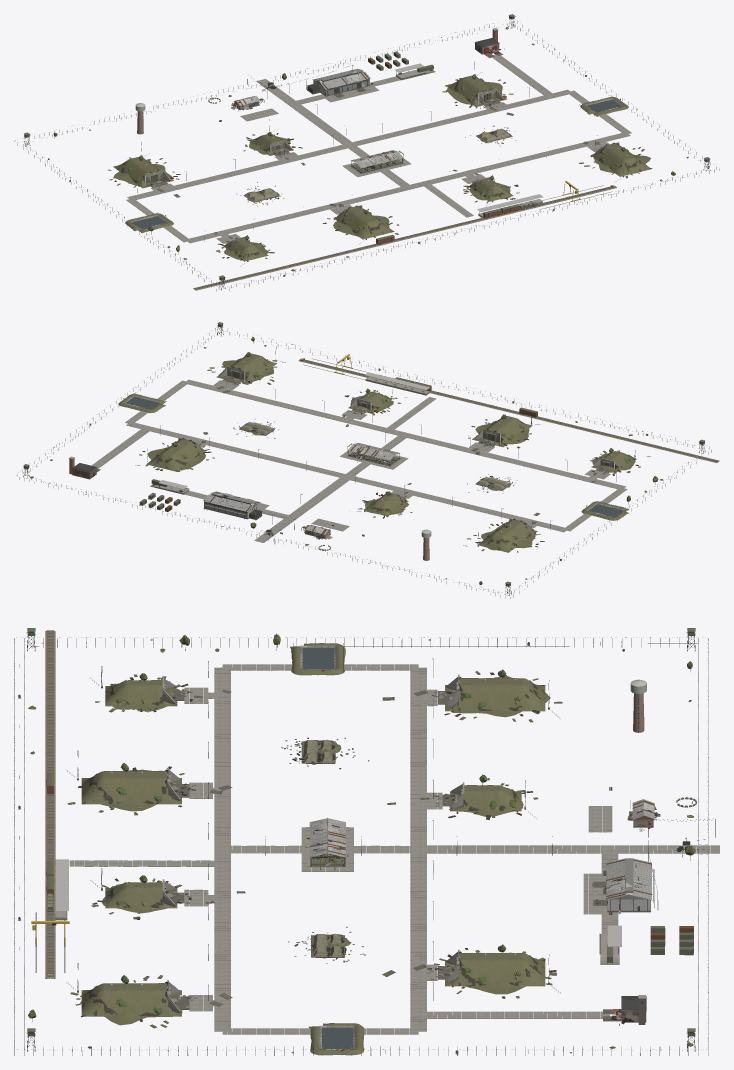
Rendered from site_ammo_city.glb.
3 views of the same model, one above another, from view 1: azimuth 30°, elevation 25°; view 2: azimuth 150°, elevation 25°; view 3: azimuth 270°, elevation 25° (orthographic). The views are drawn at different scales.
Parts seen in each view (by area): view 1: deco_roads|tile_conc, deco_rail|A_A, deco_fence|A_A, b_shop|A_A, b_mag1|A_A, b_mag3|A_A, b_mag5|A_A, deco_roads2|tile_conc, b_mag7|A_A, deco_misc|A_A, b_mag5_ruin|A_B, b_mag7_ruin|A_B (+6 smaller); view 2: deco_roads|tile_conc, deco_rail|A_A, deco_fence|A_A, b_shop|A_A, b_mag5|A_A, b_mag7|A_A, b_mag1|A_A, b_mag3|A_A, deco_misc|A_A, deco_roads2|tile_conc, b_mag3_ruin|A_B, b_mag1_ruin|A_B (+7 smaller); view 3: deco_roads|tile_conc, deco_rail|A_A, deco_fence|A_A, b_mag7|A_A, b_mag5|A_A, b_mag1|A_A, b_mag3|A_A, deco_roads2|tile_conc, b_shop|A_A, b_mag3_ruin|A_B, deco_misc|A_A, b_mag2|A_A (+19 smaller).
Part boxes in pixels (x1,y1,x2,y2): deco_roads|tile_conc: (126,76,631,243); deco_rail|A_A: (193,181,616,290); deco_fence|A_A: (15,20,716,291); b_shop|A_A: (307,68,372,97); b_mag1|A_A: (114,142,173,187); b_mag3|A_A: (448,62,505,106); b_mag5|A_A: (333,205,392,239); deco_roads2|tile_conc: (424,54,554,217); b_mag7|A_A: (591,142,650,177); deco_misc|A_A: (137,51,622,248); b_mag5_ruin|A_B: (323,203,399,243); b_mag7_ruin|A_B: (579,141,652,181); deco_roads|tile_conc: (125,379,627,542); deco_rail|A_A: (298,354,719,462); deco_fence|A_A: (17,328,711,598); b_shop|A_A: (203,491,262,519); b_mag5|A_A: (473,412,532,447); b_mag7|A_A: (217,346,276,384); b_mag1|A_A: (477,518,536,552); b_mag3|A_A: (146,438,205,471); deco_misc|A_A: (139,372,621,550); deco_roads2|tile_conc: (91,397,436,468); b_mag3_ruin|A_B: (135,432,214,471); b_mag1_ruin|A_B: (463,512,544,552); deco_roads|tile_conc: (184,664,719,1034); deco_rail|A_A: (31,630,69,978); deco_fence|A_A: (14,637,708,1055); b_mag7|A_A: (77,963,189,1016); b_mag5|A_A: (77,751,189,804); b_mag1|A_A: (438,669,549,711); b_mag3|A_A: (438,944,549,986); deco_roads2|tile_conc: (69,860,609,1018); b_shop|A_A: (592,858,654,914); b_mag3_ruin|A_B: (382,948,560,998); deco_misc|A_A: (169,658,715,1011); b_mag2|A_A: (442,774,525,810).
Size of the model in its own units: 420 by 23.64 by 295.
58 materials, 43 textured.
